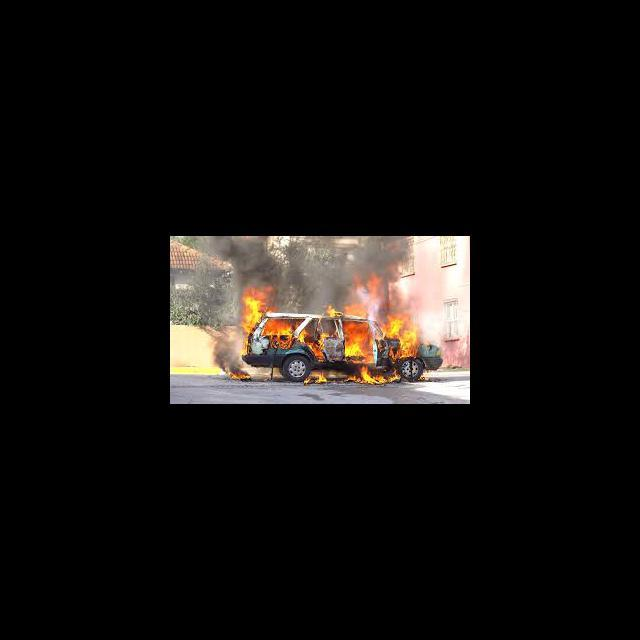Fire: (237, 274, 412, 365), (342, 365, 404, 387), (228, 369, 252, 384), (302, 371, 326, 386), (418, 374, 433, 382)
